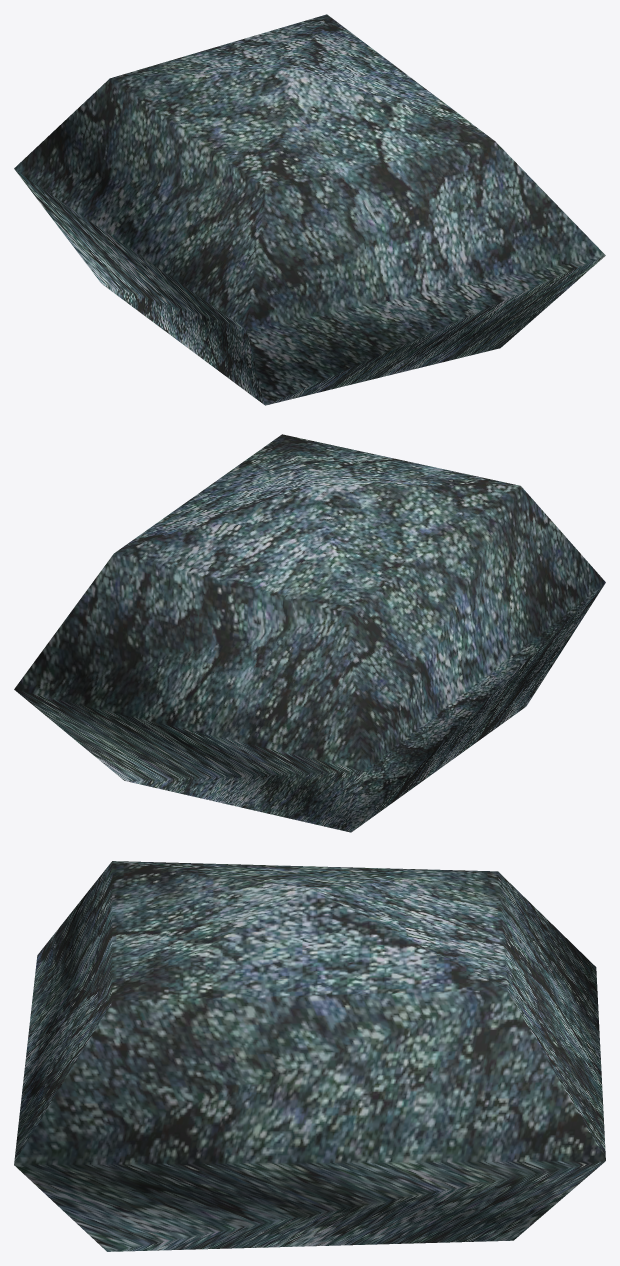
Rendered from rock_crystl_watrbush_flat_l2.fbx.
The picture shows the model from 3 angles, top to bottom: view 1: azimuth 30°, elevation 25°; view 2: azimuth 150°, elevation 25°; view 3: azimuth 270°, elevation 25°; orthographic projection. The views are drawn at different scales.
Visible parts, largest first — view 1: mesh_node; view 2: mesh_node; view 3: mesh_node.
Part boxes in pixels (x1,y1,x2,y2): mesh_node: (14, 14, 605, 405); mesh_node: (14, 434, 605, 832); mesh_node: (14, 861, 605, 1251).
Bounding box in the file's own units: 2.38 × 1.59 × 2.91.
